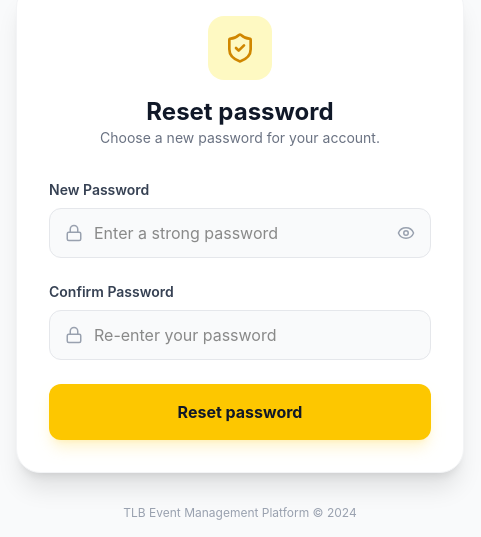
Test: ResetPasswordScreen › submits a valid reset and shows the success view
The image size is (481, 537).
Type "Str0ng!pass" into the password field labelled "New Password".
click(240, 233); type("Str0ng!pass")  # box [49,208,431,258]
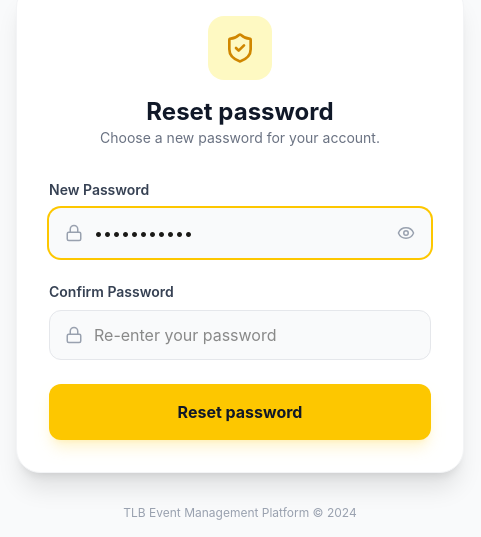
Type "Str0ng!pass" into the password field labelled "Confirm Password".
click(240, 335); type("Str0ng!pass")  # box [49,310,431,360]
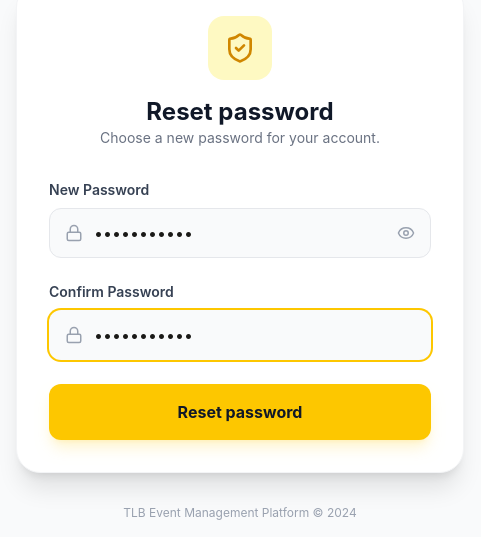
Click the button "Reset password".
click(240, 412)  # box [49,384,431,440]
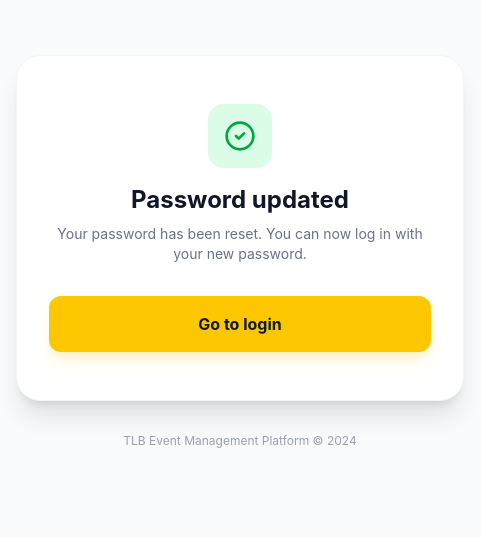
Expected: the heading "Password updated" is shown, [131,184,349,216]
